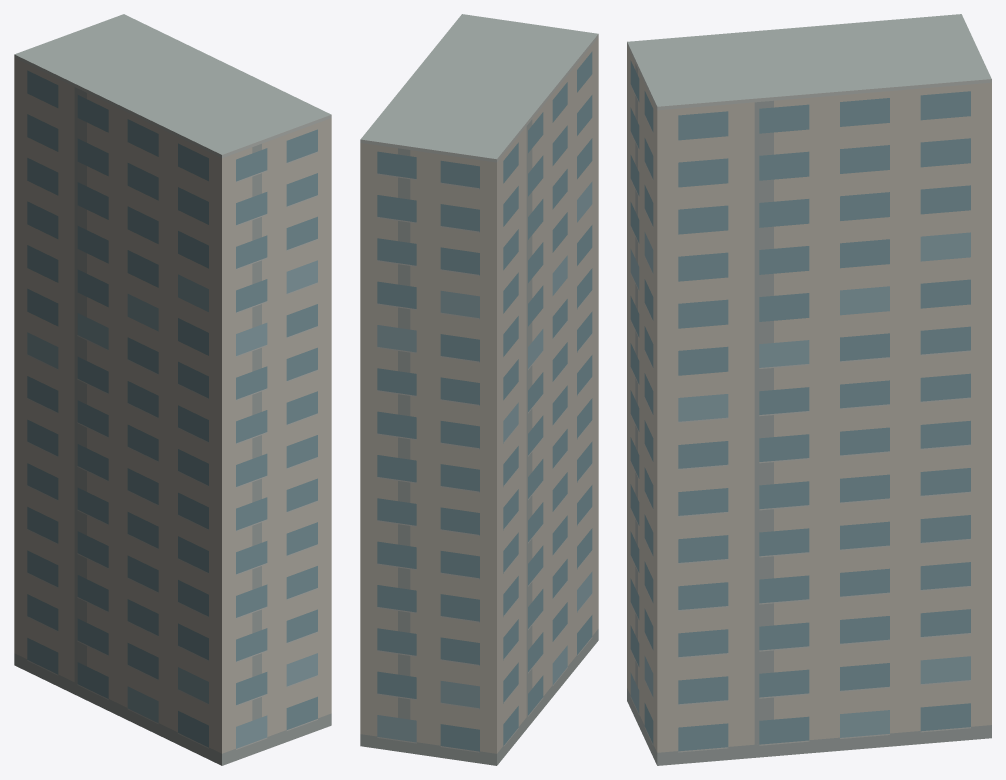
Rendered from residential-0a973958-4a64-4319-ba84-3e10e2b98f2c.glb.
3 views of the same model, side by side, from view 1: azimuth 30°, elevation 25°; view 2: azimuth 150°, elevation 25°; view 3: azimuth 270°, elevation 25° (orthographic). The views are drawn at different scales.
Visible parts, largest first — view 1: residential-0a973958-4a64-4319-ba84-3e10e2b98f2c.tmp; view 2: residential-0a973958-4a64-4319-ba84-3e10e2b98f2c.tmp; view 3: residential-0a973958-4a64-4319-ba84-3e10e2b98f2c.tmp.
Part boxes in pixels (x1=…): residential-0a973958-4a64-4319-ba84-3e10e2b98f2c.tmp: x1=14, y1=14, x2=331, y2=765; residential-0a973958-4a64-4319-ba84-3e10e2b98f2c.tmp: x1=360, y1=14, x2=598, y2=765; residential-0a973958-4a64-4319-ba84-3e10e2b98f2c.tmp: x1=627, y1=14, x2=991, y2=765.
Size of the model in its own units: 13.29 by 44 by 22.08.
